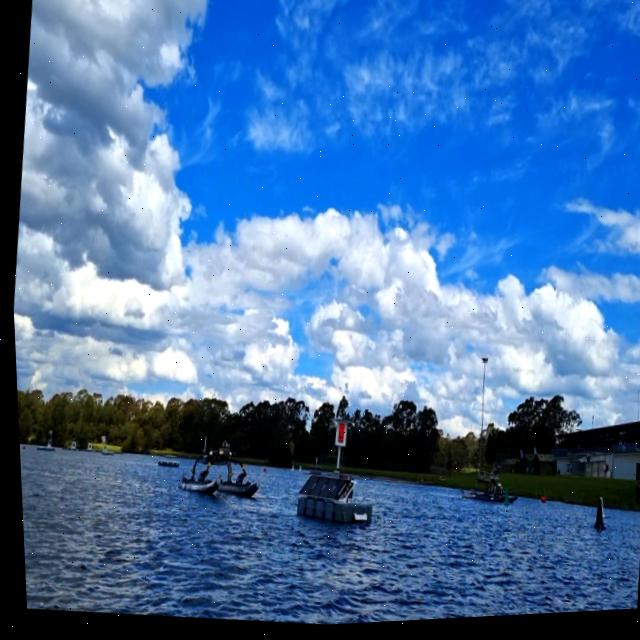led: (331, 424, 342, 449)
